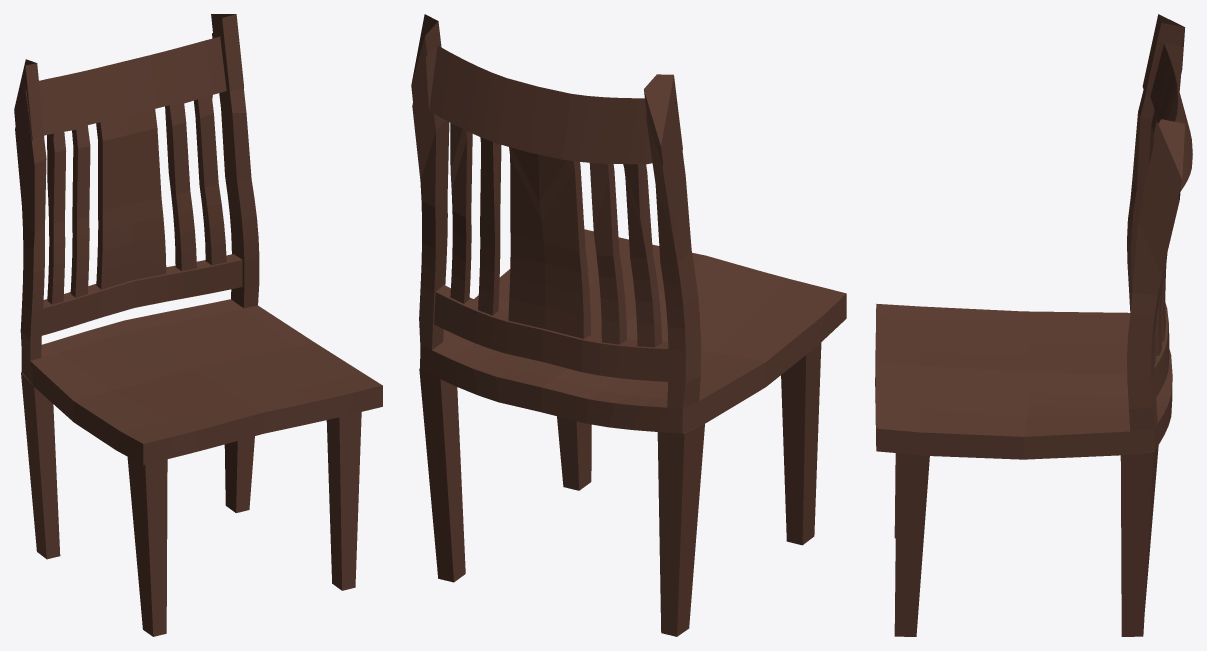
The model's file is cadira.fbx.
3 renders of one model, left to right at view 1: azimuth 30°, elevation 25°; view 2: azimuth 150°, elevation 25°; view 3: azimuth 270°, elevation 25°, orthographic. The views are drawn at different scales.
Parts seen in each view (by area): view 1: Cadira; view 2: Cadira; view 3: Cadira.
Boxes of the visible parts, box(x1,y1,x2,y2) form: Cadira: box(14, 14, 382, 636); Cadira: box(411, 14, 846, 636); Cadira: box(875, 14, 1192, 636).
Size of the model in its own units: 52.36 by 99.67 by 55.7.
